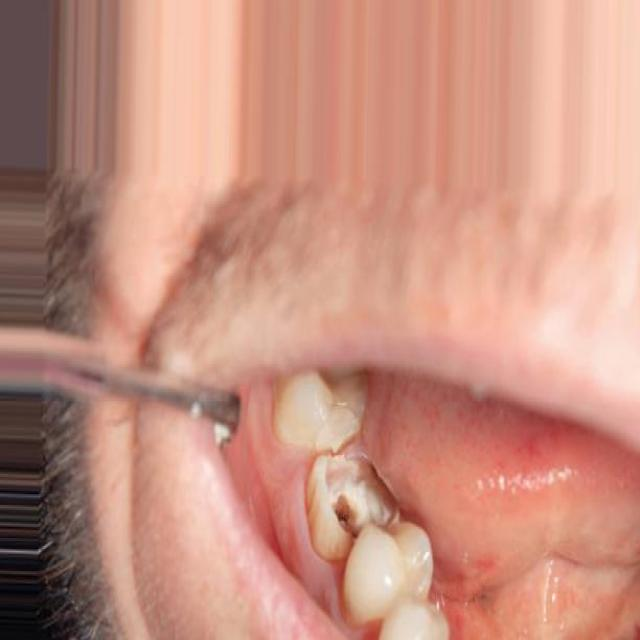caries: (316, 452, 408, 554)
